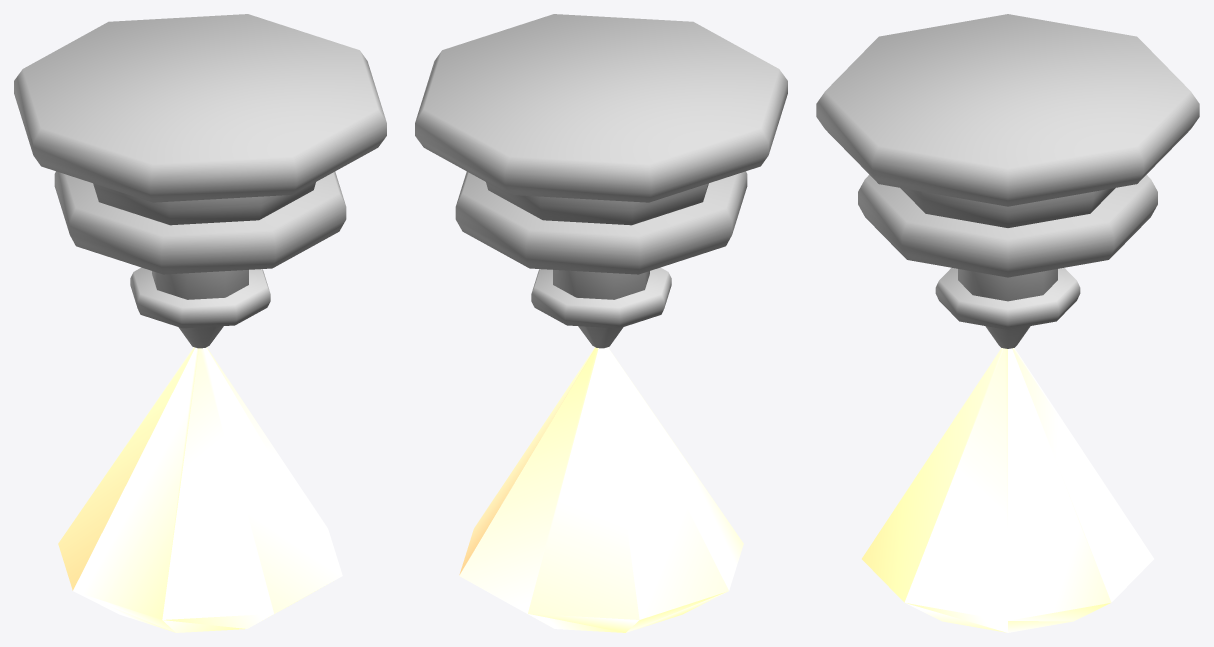
The model's file is stone_pommel_207.glb.
3 views of the same model, side by side, from view 1: azimuth 30°, elevation 25°; view 2: azimuth 150°, elevation 25°; view 3: azimuth 270°, elevation 25° (orthographic).
Visible parts, largest first — view 1: stone_pommel.207; view 2: stone_pommel.207; view 3: stone_pommel.207.
Boxes of the visible parts, x1,y1,x2,y2 form: stone_pommel.207: [14, 14, 386, 632]; stone_pommel.207: [415, 14, 787, 632]; stone_pommel.207: [816, 14, 1199, 632].
Bounding box in the file's own units: 1.76 × 2.54 × 1.76.
Materials: 1 (1 with a texture image).
